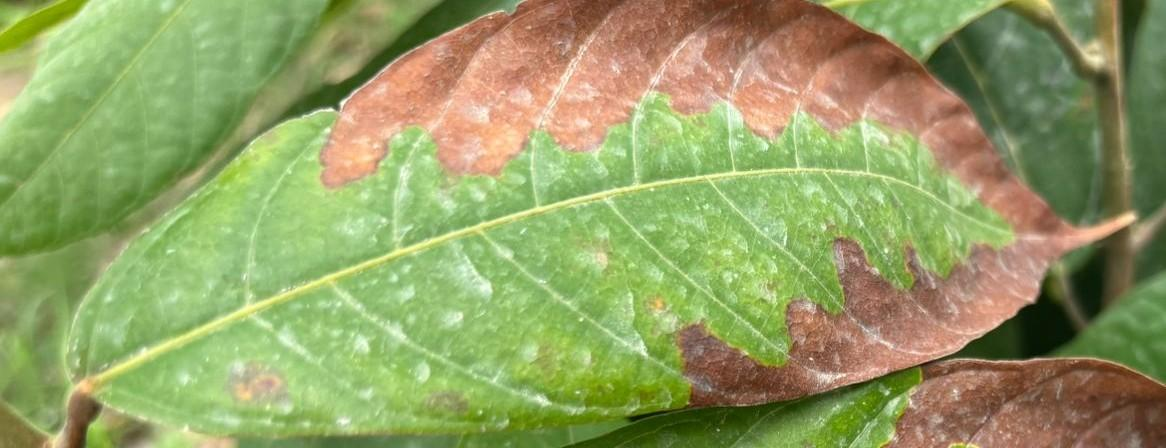Potasio: (68, 0, 1131, 436)
